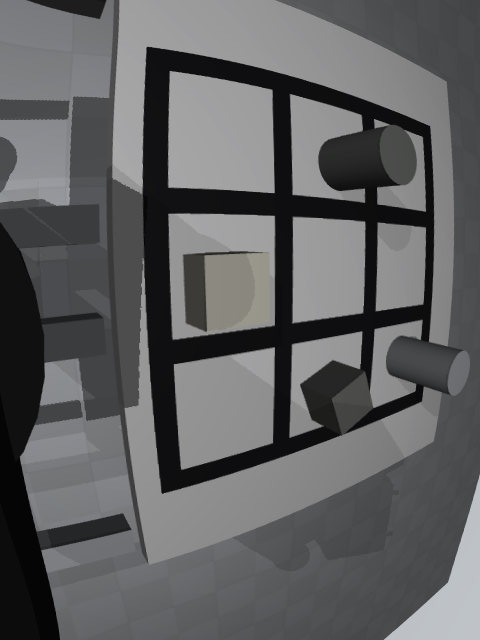can: (386, 336, 470, 396)
cube: (300, 360, 373, 436)
cylinder: (318, 125, 417, 191)
foam: (183, 252, 270, 332)
